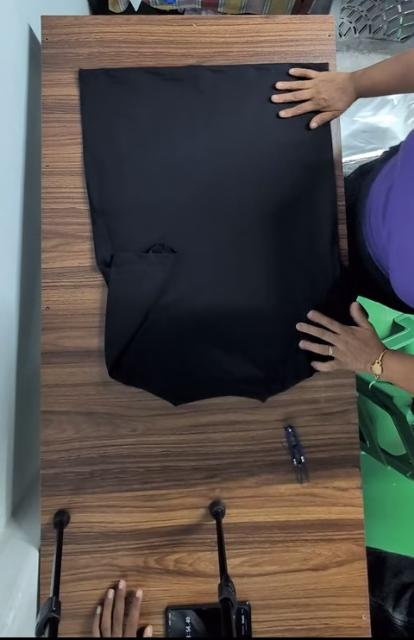new-garment: (78, 64, 347, 405)
